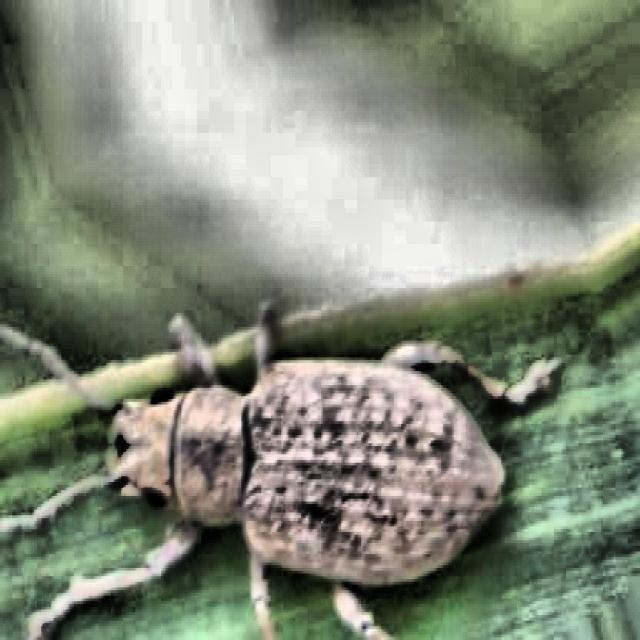Stink bug: (117, 187, 522, 640)
